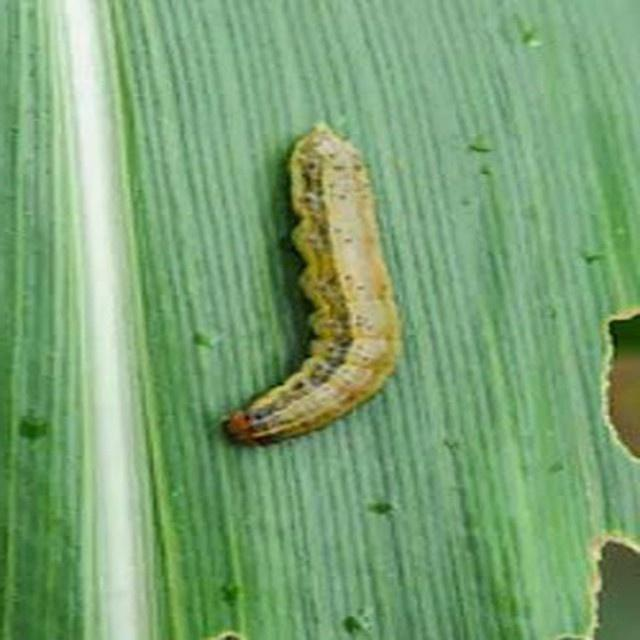gusano_cogollero: (219, 116, 401, 449)
